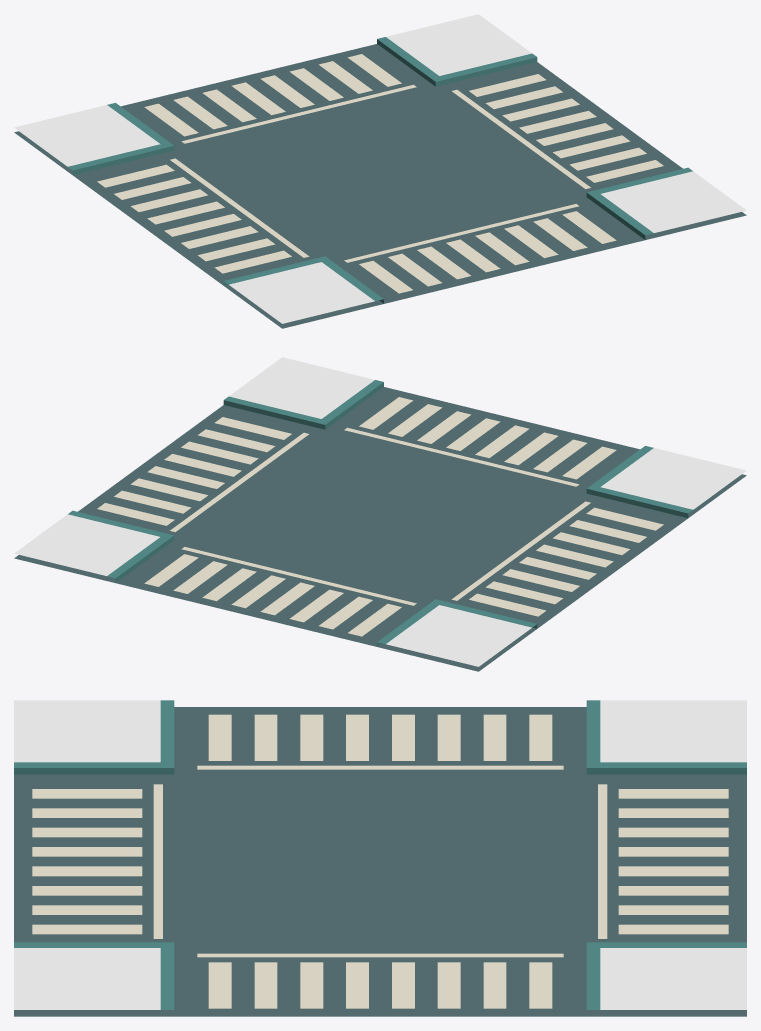
File: KC32__AD_Ext_Street_Cross.glb
The picture shows the model from 3 angles, top to bottom: view 1: azimuth 30°, elevation 25°; view 2: azimuth 150°, elevation 25°; view 3: azimuth 270°, elevation 25°; orthographic projection. The views are drawn at different scales.
Visible parts, largest first — view 1: KC32_CORPS__AD_Ext_Street_Cross, KC32_LUMIERE__AD_Ext_Street_Cross, KC32_ACCENT__AD_Ext_Street_Cross; view 2: KC32_CORPS__AD_Ext_Street_Cross, KC32_LUMIERE__AD_Ext_Street_Cross, KC32_ACCENT__AD_Ext_Street_Cross; view 3: KC32_CORPS__AD_Ext_Street_Cross, KC32_LUMIERE__AD_Ext_Street_Cross, KC32_ACCENT__AD_Ext_Street_Cross.
Boxes of the visible parts, x1,y1,x2,y2 form: KC32_CORPS__AD_Ext_Street_Cross: (14, 37, 746, 328); KC32_LUMIERE__AD_Ext_Street_Cross: (97, 54, 663, 293); KC32_ACCENT__AD_Ext_Street_Cross: (14, 14, 746, 323); KC32_CORPS__AD_Ext_Street_Cross: (14, 380, 746, 671); KC32_LUMIERE__AD_Ext_Street_Cross: (97, 397, 663, 636); KC32_ACCENT__AD_Ext_Street_Cross: (14, 357, 746, 666); KC32_CORPS__AD_Ext_Street_Cross: (14, 700, 746, 1016); KC32_LUMIERE__AD_Ext_Street_Cross: (32, 714, 728, 1008); KC32_ACCENT__AD_Ext_Street_Cross: (14, 700, 746, 1009).
Bounding box in the file's own units: 16 × 0.16 × 16.
